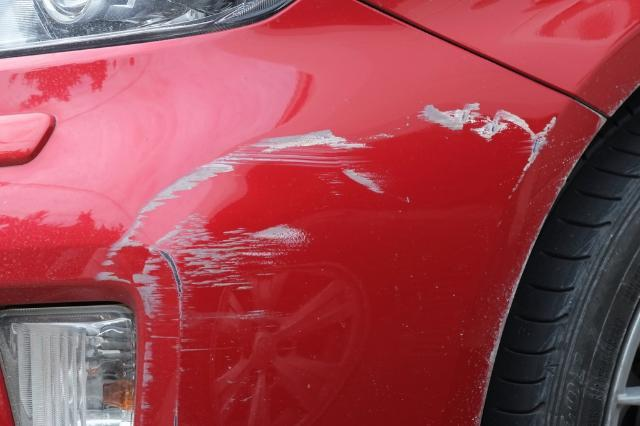scratch: (95, 97, 564, 426)
